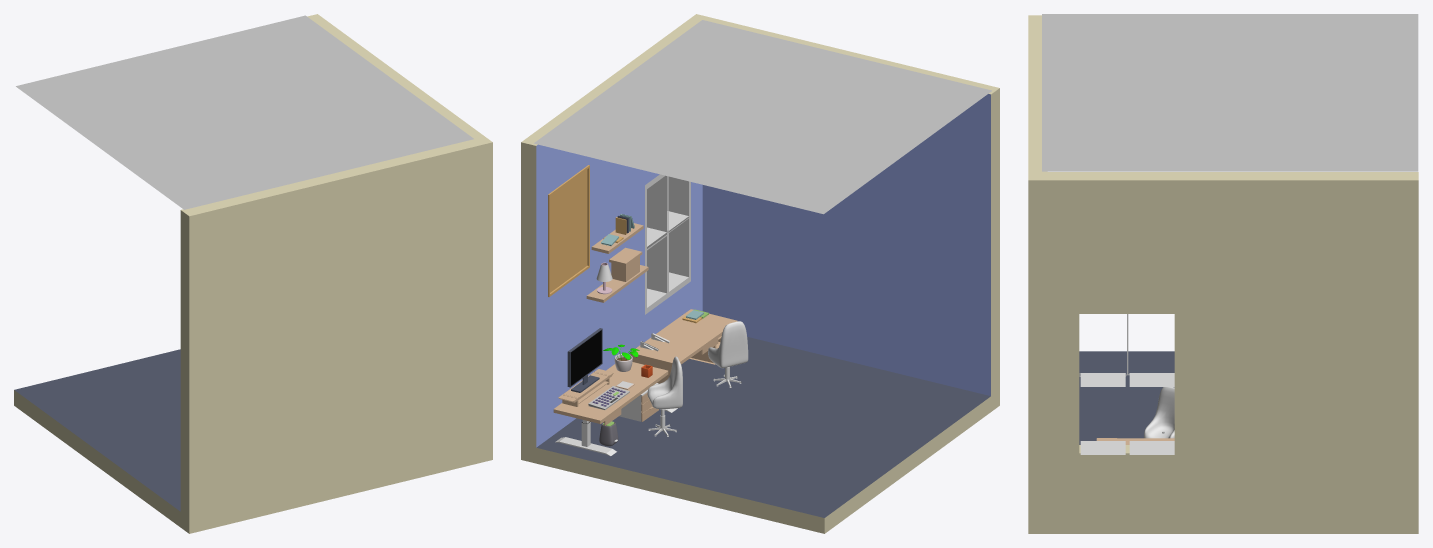
3 views of the same model, side by side, from view 1: azimuth 30°, elevation 25°; view 2: azimuth 150°, elevation 25°; view 3: azimuth 270°, elevation 25° (orthographic). The views are drawn at different scales.
Parts seen in each view (by area): view 1: wrap, ceiling; view 2: wrap, ceiling, window, khungtreotuong, Table Top.014, Table Top, Lập Phương.017, Lập Phương.007, PC_CV, BookShelf.002, GiaDo, PC (+1 smaller); view 3: wrap, ceiling, window, Lập Phương.017.
Part boxes in pixels (x1=…): wrap: x1=14, y1=14, x2=492, y2=533; ceiling: x1=16, y1=15, x2=473, y2=209; wrap: x1=521, y1=14, x2=999, y2=533; ceiling: x1=534, y1=20, x2=991, y2=214; window: x1=645, y1=174, x2=690, y2=314; khungtreotuong: x1=548, y1=165, x2=589, y2=296; Table Top.014: x1=630, y1=309, x2=737, y2=366; Table Top: x1=553, y1=362, x2=668, y2=423; Lập Phương.017: x1=708, y1=321, x2=748, y2=368; Lập Phương.007: x1=647, y1=356, x2=682, y2=409; PC_CV: x1=571, y1=330, x2=601, y2=385; BookShelf.002: x1=609, y1=247, x2=642, y2=281; GiaDo: x1=558, y1=369, x2=613, y2=406; PC: x1=567, y1=328, x2=602, y2=392; wrap: x1=1028, y1=15, x2=1418, y2=533; ceiling: x1=1042, y1=14, x2=1418, y2=171; window: x1=1079, y1=314, x2=1174, y2=454; Lập Phương.017: x1=1144, y1=387, x2=1174, y2=438.
Size of what is drawn, in the model's own units: 36.99 by 36.09 by 35.91.
